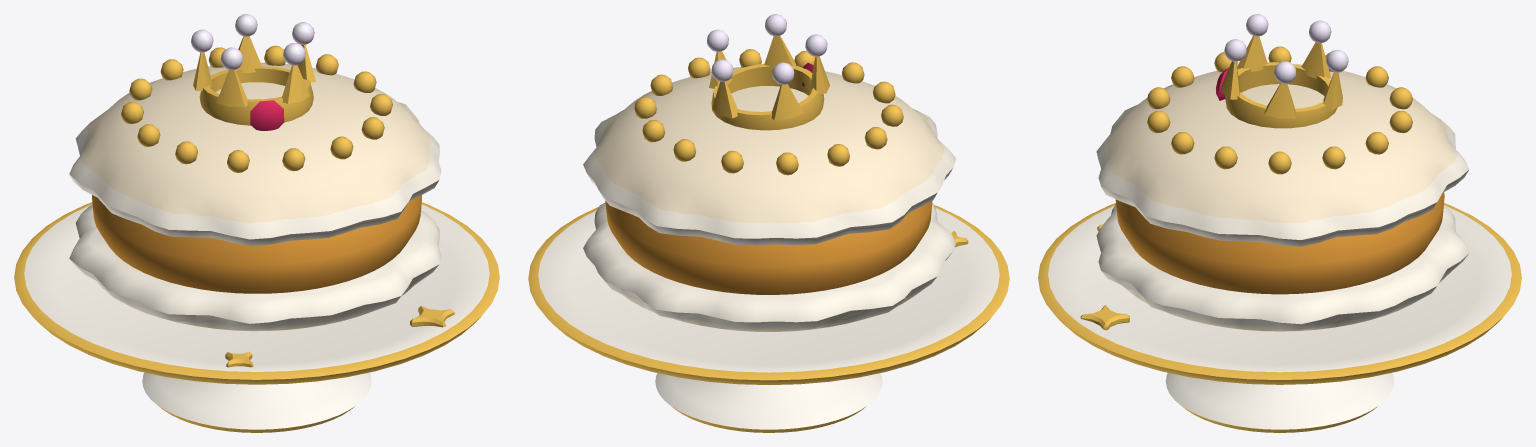
The model's file is GoldenMacaron.glb.
The picture shows the model from 3 angles, left to right: view 1: azimuth 30°, elevation 25°; view 2: azimuth 150°, elevation 25°; view 3: azimuth 270°, elevation 25°; orthographic projection.
Parts seen in each view (by area): view 1: GoldenMacaron; view 2: GoldenMacaron; view 3: GoldenMacaron.
Part boxes in pixels (<box>): GoldenMacaron: <box>14,14,499,432</box>; GoldenMacaron: <box>528,14,1009,432</box>; GoldenMacaron: <box>1038,14,1521,432</box>.
Size of the model in its own units: 1.44 by 1.16 by 1.44.
Materials: 6 (6 with a texture image).
